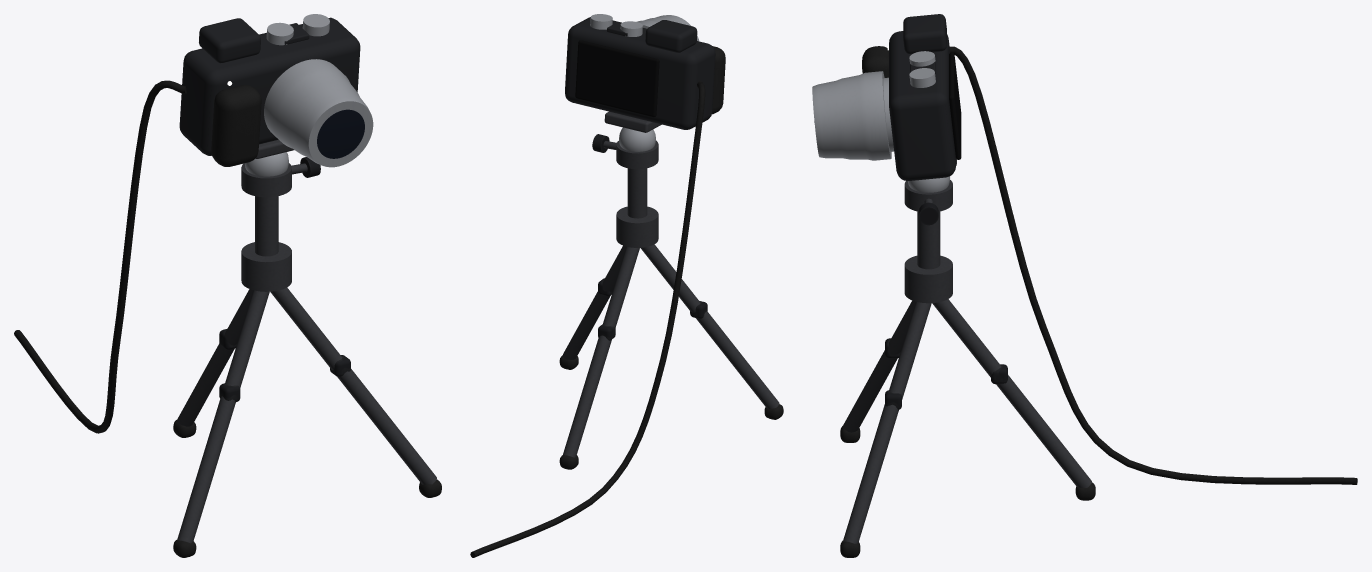
The model's file is SM_Mirrorless.glb.
The picture shows the model from 3 angles, left to right: view 1: azimuth 30°, elevation 25°; view 2: azimuth 150°, elevation 25°; view 3: azimuth 270°, elevation 25°; orthographic projection. The views are drawn at different scales.
Parts seen in each view (by area): view 1: SM_Mirrorless; view 2: SM_Mirrorless; view 3: SM_Mirrorless.
Boxes of the visible parts, bbox=[...] form: SM_Mirrorless: bbox=[14, 14, 441, 557]; SM_Mirrorless: bbox=[470, 14, 783, 557]; SM_Mirrorless: bbox=[812, 14, 1357, 557].
Size of the model in its own units: 0.2045 by 0.3599 by 0.3821.
Materials: 9 (9 with a texture image).
